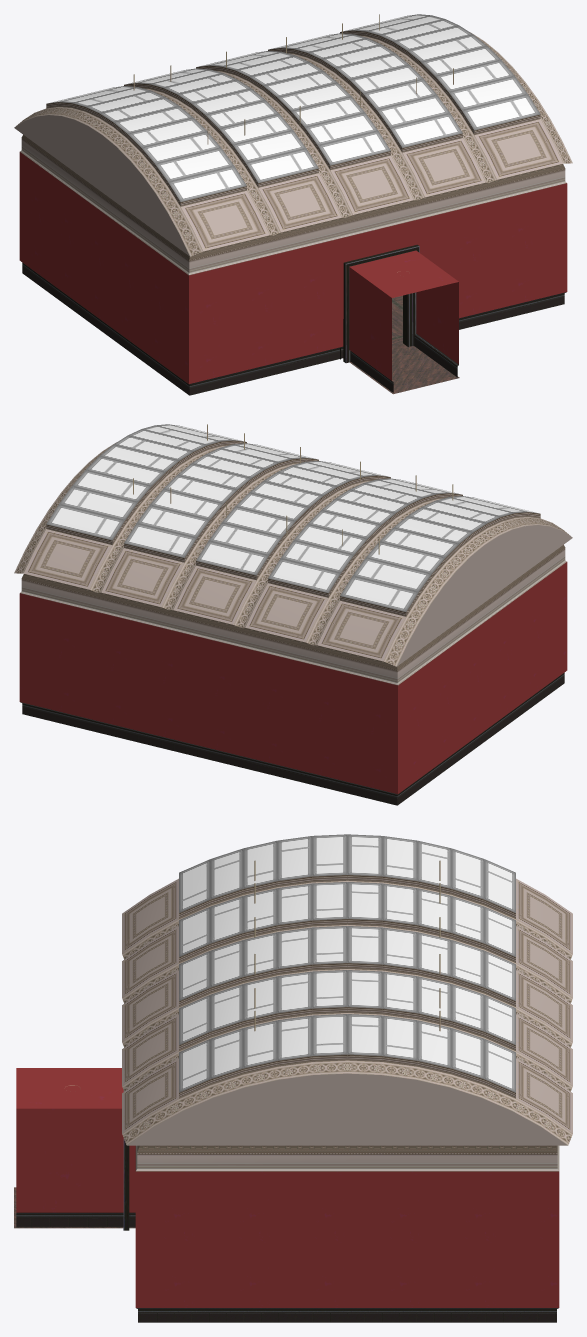
Rendered from Room_03.dae.
3 renders of one model, top to bottom at view 1: azimuth 30°, elevation 25°; view 2: azimuth 150°, elevation 25°; view 3: azimuth 270°, elevation 25°, orthographic. The views are drawn at different scales.
Visible parts, largest first — view 1: Room_03 (×7); view 2: Room_03 (×6); view 3: Room_03 (×6).
Part boxes in pixels (<box>): Room_03 (×7): <box>14,14,572,395</box>; Room_03 (×6): <box>14,424,572,805</box>; Room_03 (×6): <box>16,834,572,1322</box>.
Bounding box in the file's own units: 2401 × 1303 × 2423.
16 materials, 16 textured.
